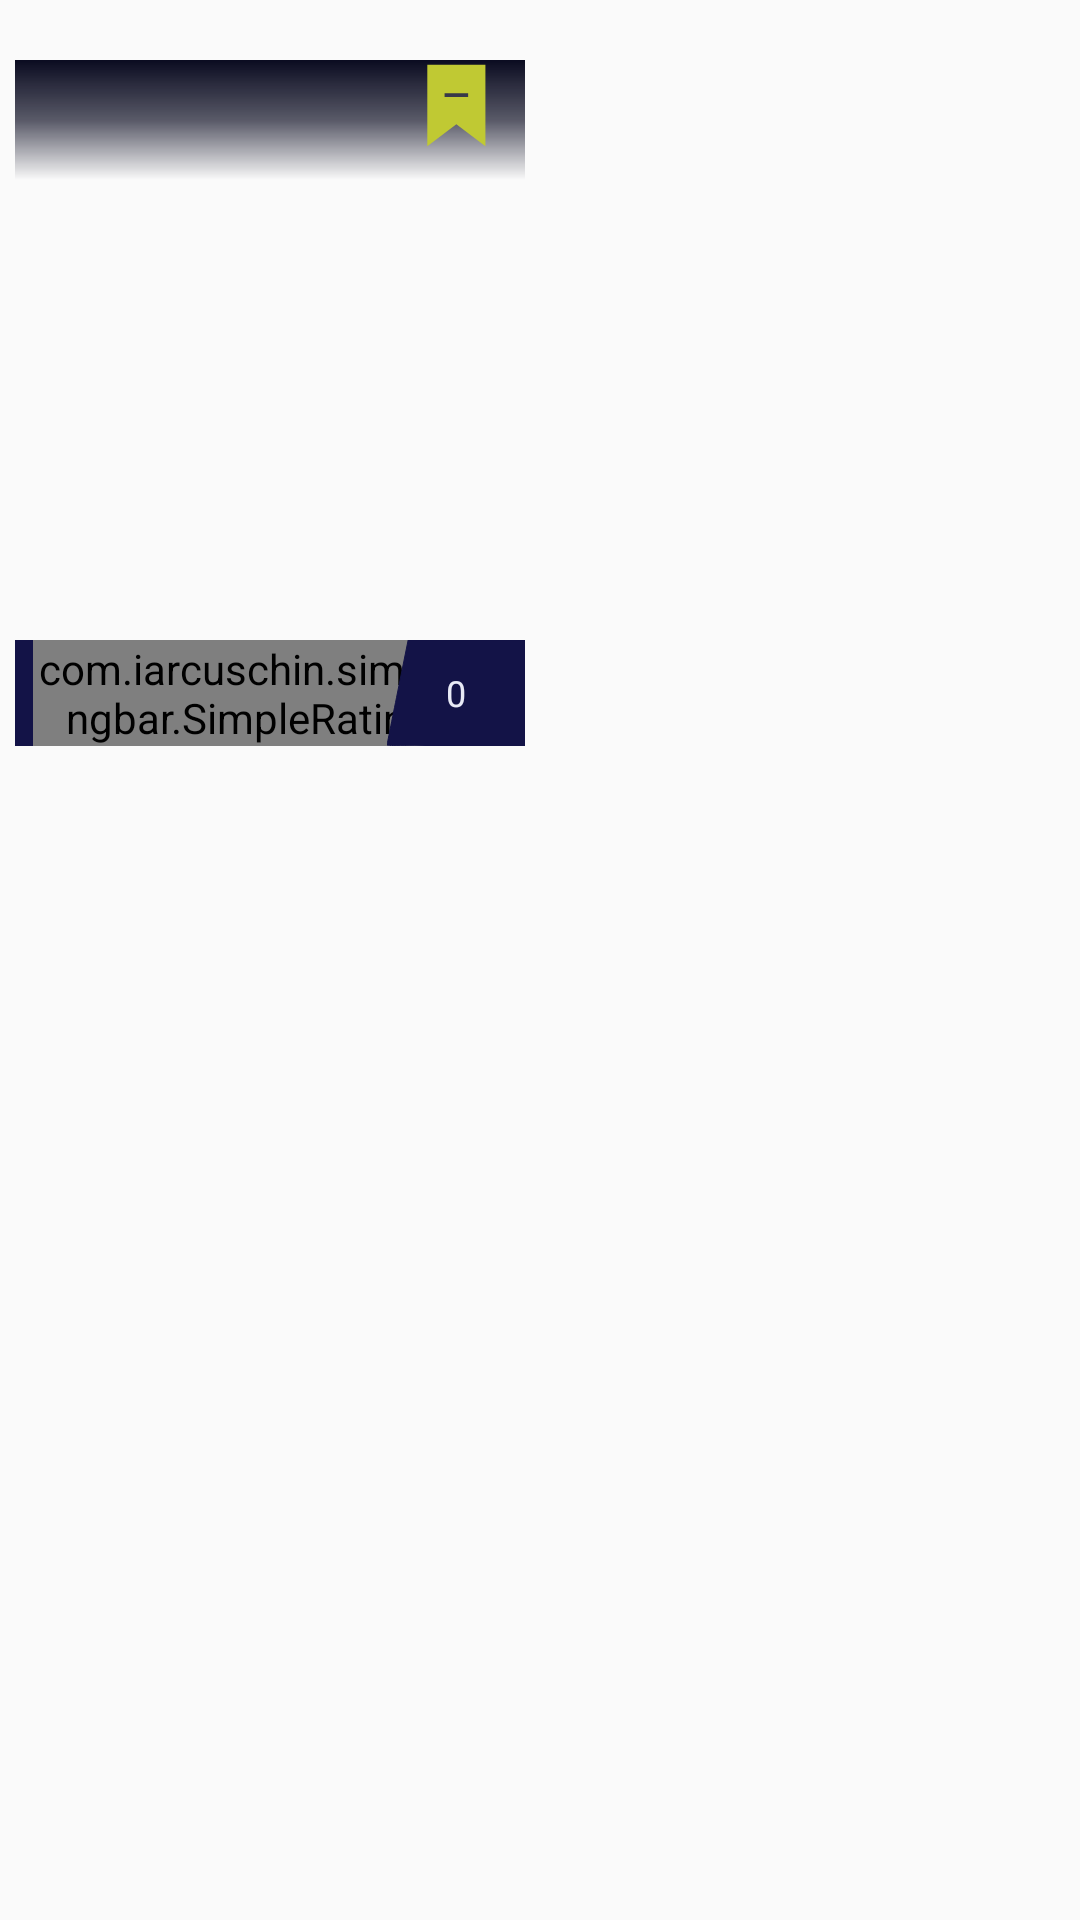

Named icons in this screenshot (1080px x 1920px) and their centers, point (x, y):
favourite gold: point (465, 114)
